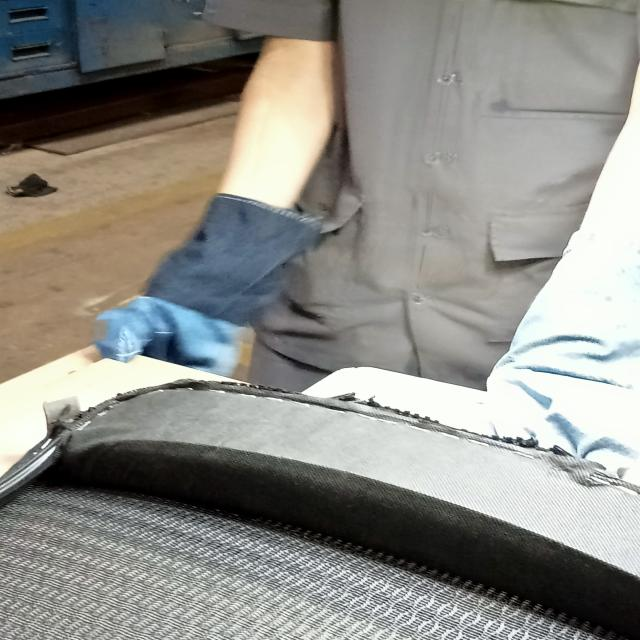Gloves-Detection: (113, 191, 325, 346)
